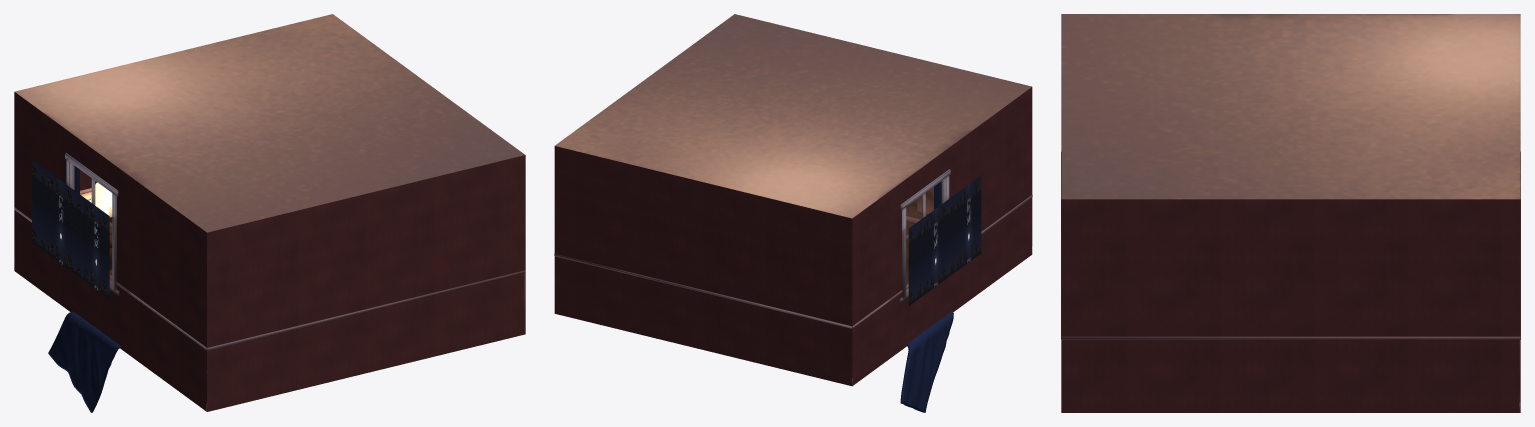
The model's file is hotel_room.glb.
3 views of the same model, side by side, from view 1: azimuth 30°, elevation 25°; view 2: azimuth 150°, elevation 25°; view 3: azimuth 270°, elevation 25° (orthographic). The views are drawn at different scales.
Parts seen in each view (by area): view 1: ceiling, wall_front, wall_left_a, wall_left_b, window_sky, duvet, wall_left_c, wall_left_d, chairrail_front, win_l; view 2: ceiling, wall_back, wall_left_a, wall_left_b, window_sky, duvet, wall_left_c, wall_left_d, chairrail_back, win_r; view 3: wall_right, ceiling, chairrail_right.
Boxes of the visible parts, left/top/right/bottom form: ceiling: left=15, top=14, right=524, bottom=232; wall_front: left=207, top=155, right=525, bottom=411; wall_left_a: left=115, top=166, right=206, bottom=411; wall_left_b: left=14, top=92, right=69, bottom=310; window_sky: left=32, top=159, right=109, bottom=299; duvet: left=48, top=311, right=120, bottom=412; wall_left_c: left=69, top=270, right=115, bottom=341; wall_left_d: left=69, top=132, right=115, bottom=187; chairrail_front: left=207, top=270, right=525, bottom=350; win_l: left=112, top=193, right=116, bottom=290; ceiling: left=555, top=14, right=1031, bottom=218; wall_back: left=554, top=146, right=852, bottom=386; wall_left_a: left=946, top=87, right=1032, bottom=313; wall_left_b: left=852, top=181, right=903, bottom=385; window_sky: left=908, top=176, right=981, bottom=305; duvet: left=900, top=310, right=953, bottom=412; wall_left_c: left=903, top=279, right=946, bottom=348; wall_left_d: left=903, top=150, right=946, bottom=201; chairrail_back: left=554, top=254, right=851, bottom=328; win_r: left=902, top=207, right=906, bottom=298; wall_right: left=1061, top=199, right=1520, bottom=412; ceiling: left=1061, top=14, right=1520, bottom=199; chairrail_right: left=1061, top=336, right=1520, bottom=339.
Size of the model in its own units: 5.55 by 4.13 by 5.46.
Materials: 23 (11 with a texture image).
